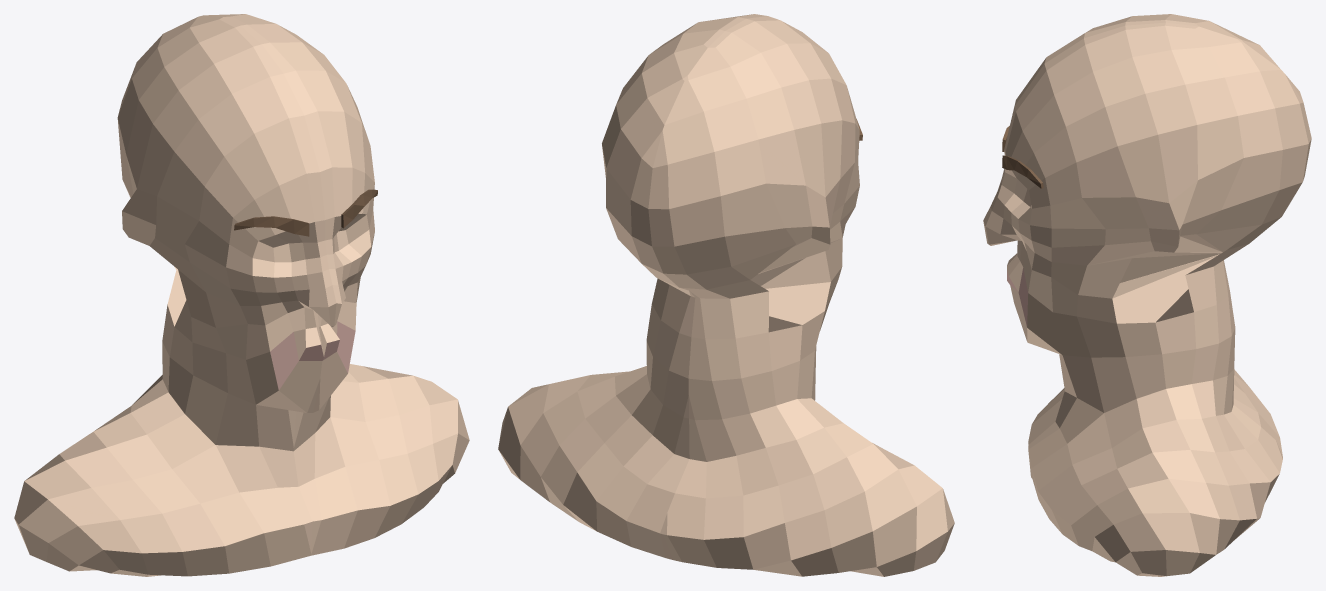
The model's file is qf_warp.glb.
3 renders of one model, left to right at view 1: azimuth 30°, elevation 25°; view 2: azimuth 150°, elevation 25°; view 3: azimuth 270°, elevation 25°, orthographic. The views are drawn at different scales.
Visible parts, largest first — view 1: Head_Main, Eyebrow_R; view 2: Head_Main; view 3: Head_Main, Eyebrow_L.
Boxes of the visible parts, x1,y1,x2,y2 form: Head_Main: (14,14,469,576); Eyebrow_R: (234,216,309,236); Head_Main: (498,14,954,576); Head_Main: (983,14,1311,576); Eyebrow_L: (1002,155,1043,188).
Size of the model in its own units: 0.3217 by 0.3419 by 0.2162.
